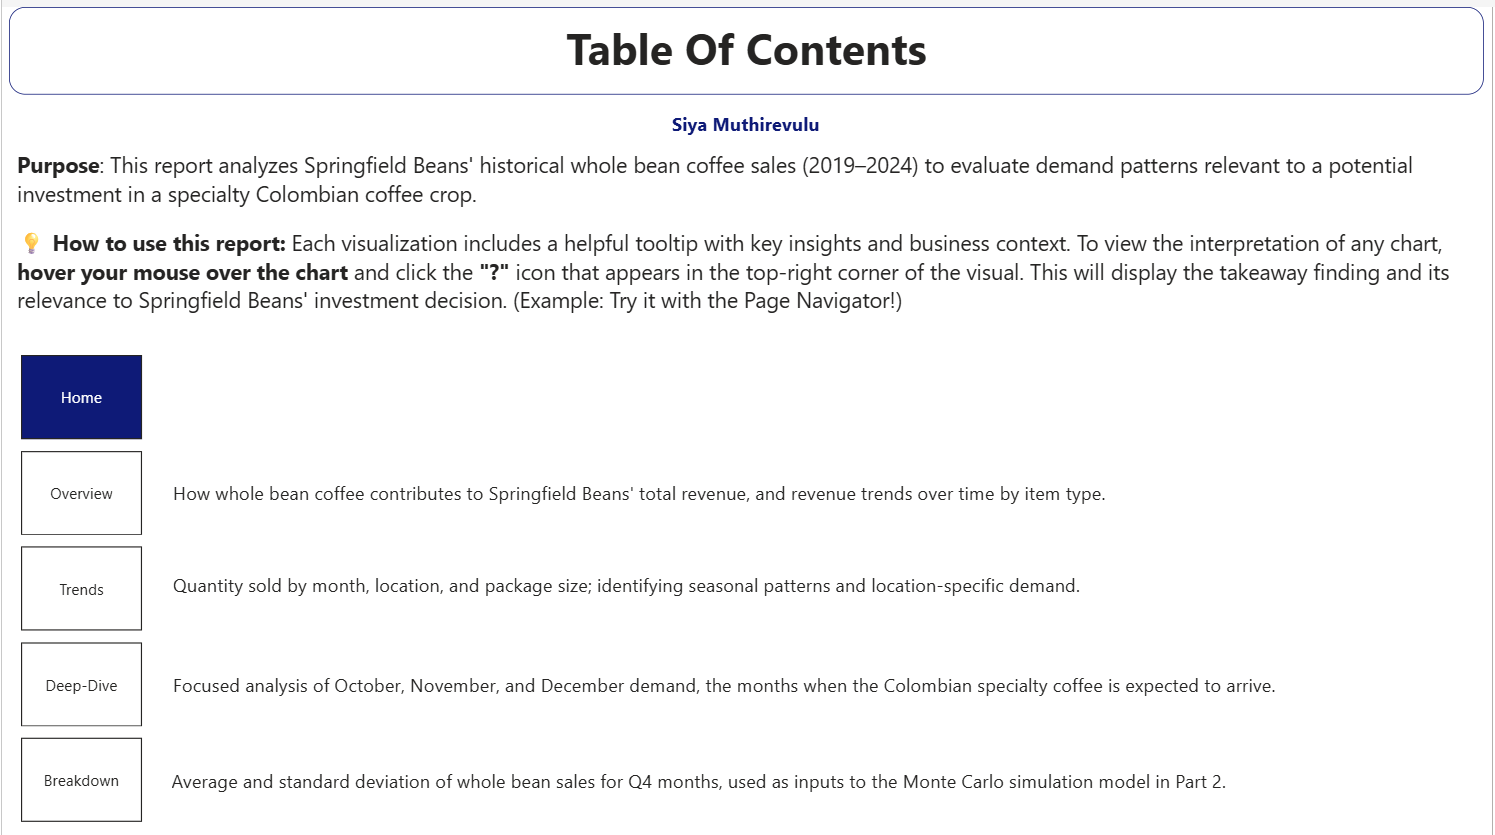

What the dashboard file says about the page in this screenshot:
{"tool":"powerbi","page":{"name":"Home","canvas":[1280,720],"ordinal":0},"visuals":[{"type":"textbox","box":[0,0,1279.5,75.7],"z":0},{"type":"pageNavigator","box":[10.6,301.3,106,407.3],"z":1000},{"type":"textbox","box":[1.4,118,1279,160.6],"z":2000},{"type":"textbox","box":[136.3,404.3,841.9,42.4],"z":3000},{"type":"textbox","box":[136.3,484.5,841.9,42.4],"z":4000},{"type":"textbox","box":[136.3,570.9,1008.5,37.9],"z":5000},{"type":"textbox","box":[135.9,654.6,1007.3,38.4],"z":6000},{"type":"textbox","box":[263.5,84.8,752.6,33.3],"z":7000}]}

Visuals, with their boxes in screenshot pixels (x1, y1, x2, y2), scaled from the page's 1280x720 canvas onto the 1495x835 screenshot:
textbox: 0/0/1494/88
pageNavigator: 12/349/136/822
textbox: 2/137/1494/323
textbox: 159/469/1143/518
textbox: 159/562/1143/611
textbox: 159/662/1337/706
textbox: 159/759/1335/804
textbox: 308/98/1187/137
